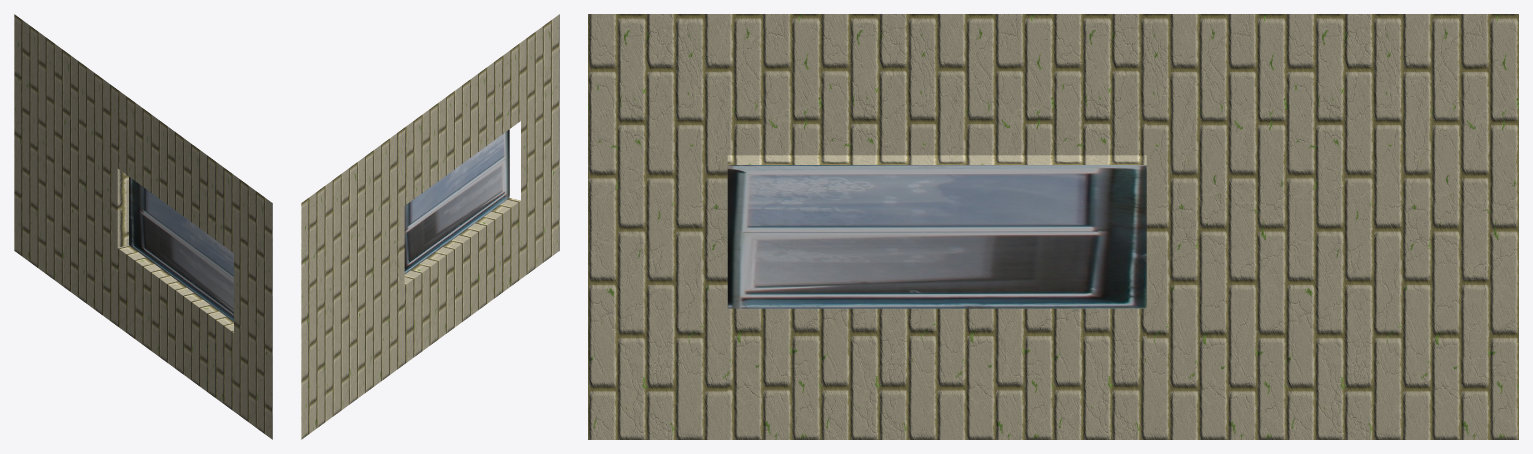
File: window_0.5m.obj
3 views of the same model, side by side, from view 1: azimuth 30°, elevation 25°; view 2: azimuth 150°, elevation 25°; view 3: azimuth 270°, elevation 25° (orthographic). The views are drawn at different scales.
Parts seen in each view (by area): view 1: Plane001, Plane002; view 2: Plane001, Plane002; view 3: Plane001, Plane002.
Part boxes in pixels (x1=…): Plane001: x1=14, y1=14, x2=272, y2=439; Plane002: x1=129, y1=177, x2=233, y2=321; Plane001: x1=301, y1=14, x2=559, y2=439; Plane002: x1=404, y1=129, x2=509, y2=274; Plane001: x1=588, y1=14, x2=1518, y2=439; Plane002: x1=727, y1=165, x2=1146, y2=308.
Size of the model in its own units: 5 by 101 by 200.
2 materials, 2 textured.
